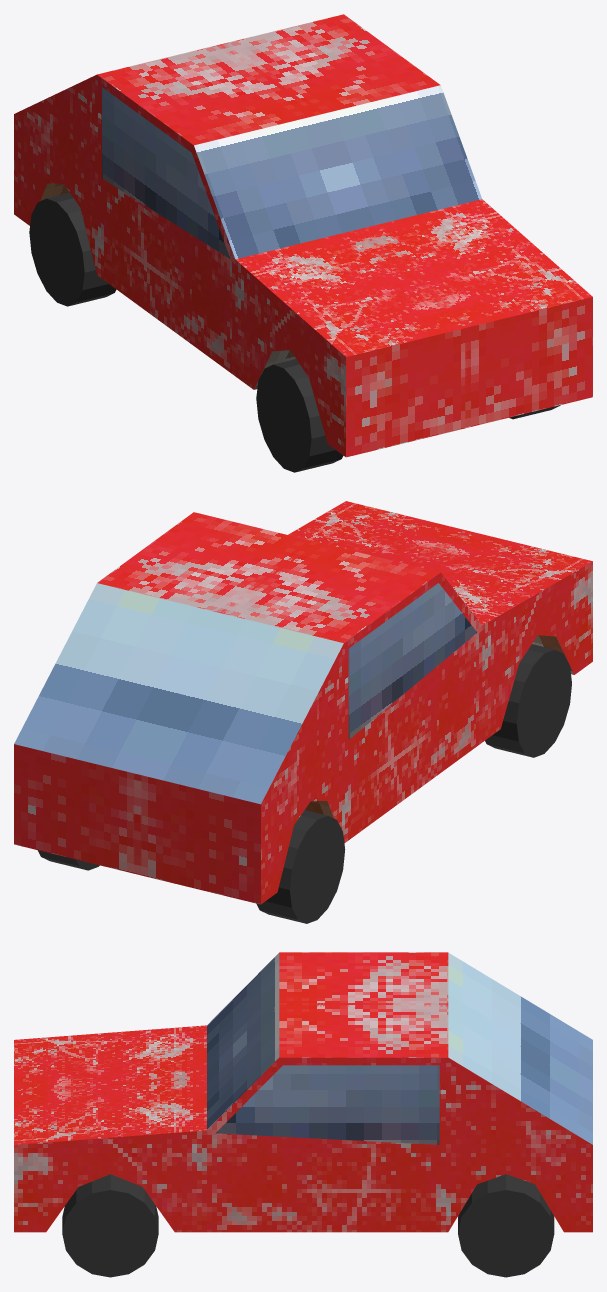
File: car.glb
3 views of the same model, one above another, from view 1: azimuth 30°, elevation 25°; view 2: azimuth 150°, elevation 25°; view 3: azimuth 270°, elevation 25° (orthographic). The views are drawn at different scales.
Parts seen in each view (by area): view 1: car-col, wheels; view 2: car-col, wheels; view 3: car-col, wheels.
Boxes of the visible parts, box(x1,y1,x2,y2) form: car-col: box(14, 14, 592, 457); wheels: box(29, 192, 560, 472); car-col: box(14, 501, 592, 904); wheels: box(38, 644, 571, 923); car-col: box(14, 952, 592, 1232); wheels: box(62, 1174, 554, 1277).
Bounding box in the file's own units: 2.25 × 2.1 × 5.04.
2 materials, 1 textured.
